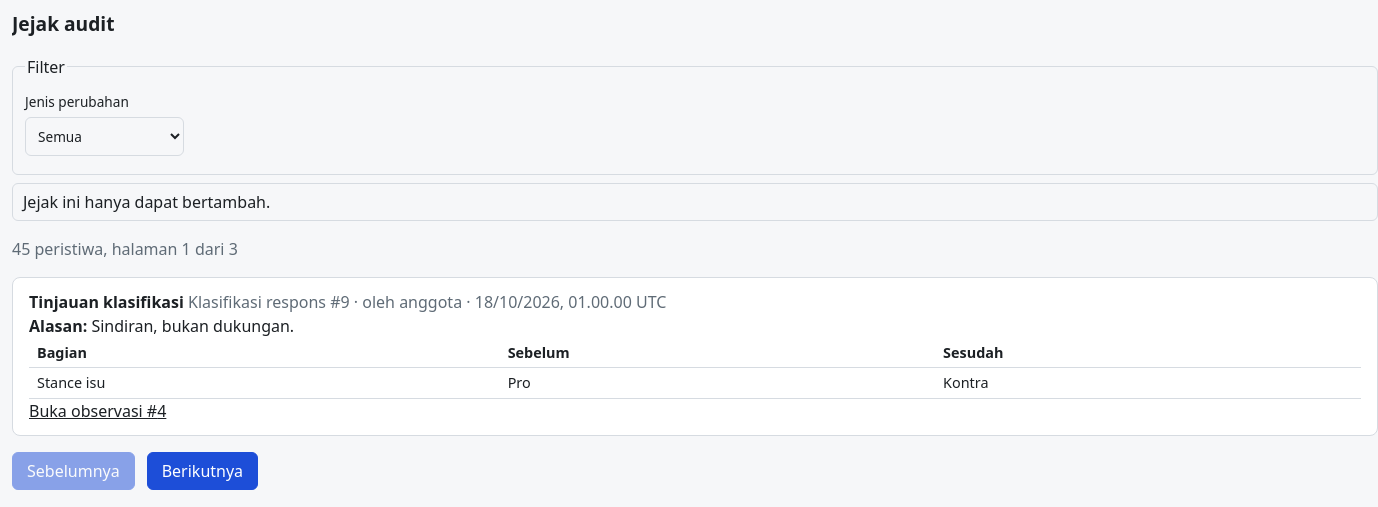
it: AuditPanel › paginasi: tombol berikutnya meminta halaman kedua
The image size is (1378, 507).
Expected: the text "45 peristiwa, halaman 1 dari 3" is shown, [12,238,238,260]
Expected: the button "Sebelumnya" is disabled, [12,452,135,490]
Click the button "Berikutnya" at (202, 471), box [147,452,258,490]
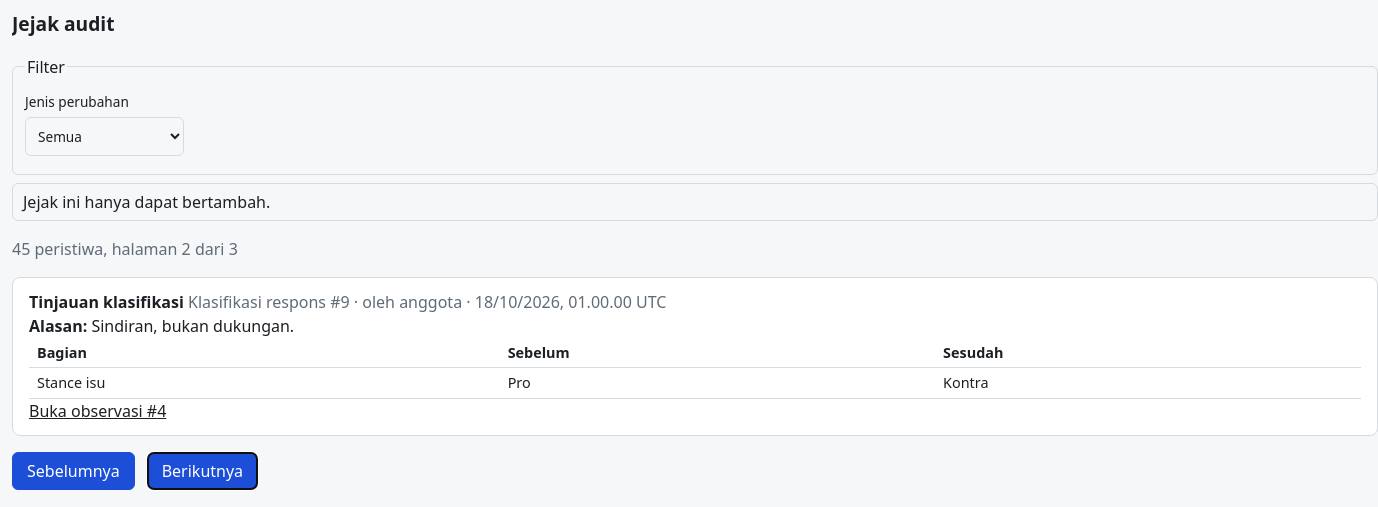
Expected: the text "45 peristiwa, halaman 2 dari 3" is shown, [12,238,238,260]
